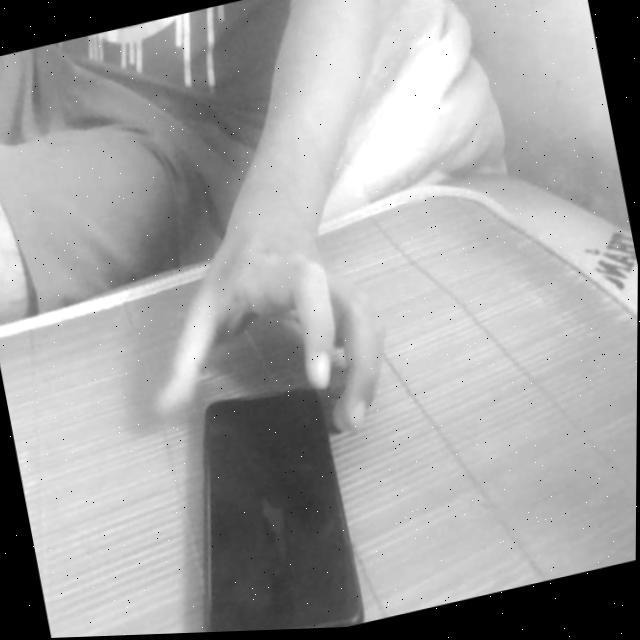phone: (127, 318, 421, 636)
